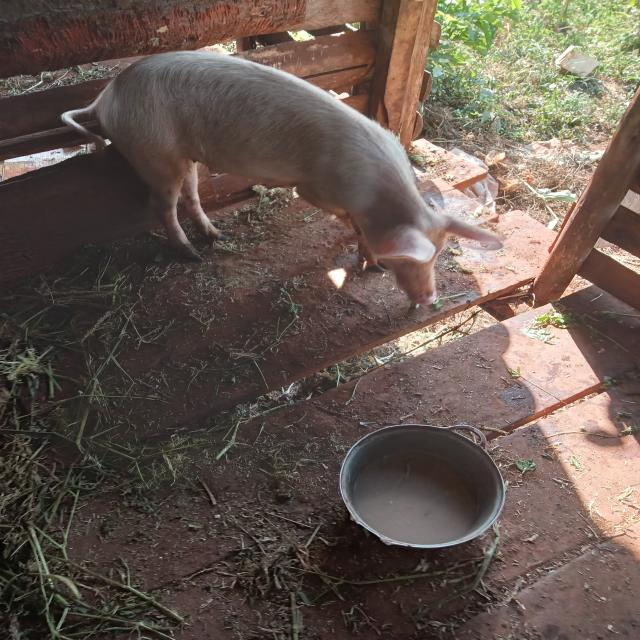pig: (31, 34, 523, 350)
